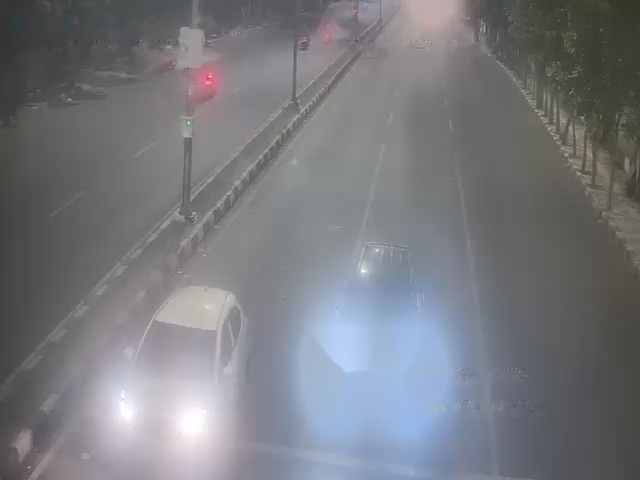Mobil: (119, 278, 248, 447), (333, 232, 427, 377)
Motor: (162, 54, 177, 69)
